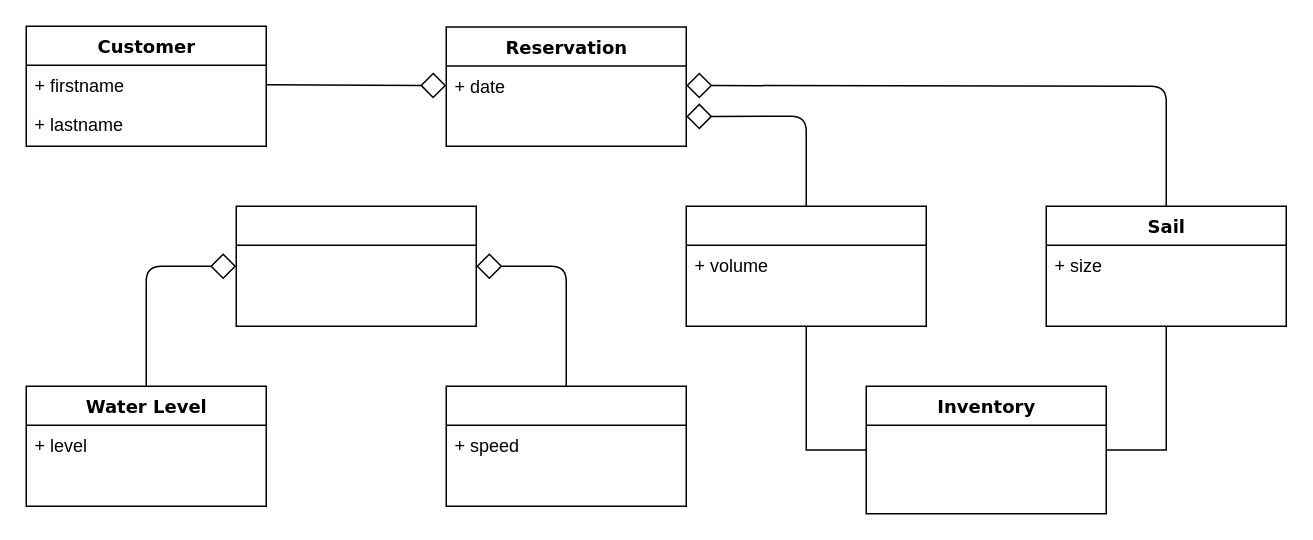
Image size: 1313x540. Some labels were removed from this diagram. The box of each missing label's shape, as (x1, y1, x2, y2) in pixels:
Board: (685, 205, 926, 326)
Weather: (235, 205, 476, 326)
Wind: (445, 385, 686, 506)
